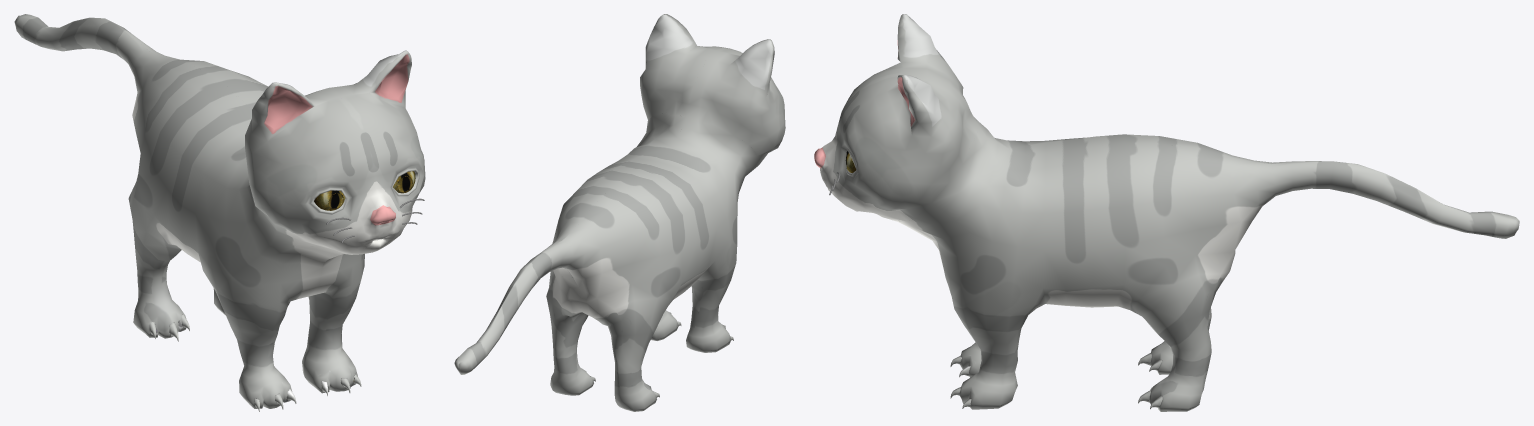
Rendered from walk_cat.obj.
3 views of the same model, side by side, from view 1: azimuth 30°, elevation 25°; view 2: azimuth 150°, elevation 25°; view 3: azimuth 270°, elevation 25° (orthographic). The views are drawn at different scales.
Parts seen in each view (by area): view 1: Cat; view 2: Cat; view 3: Cat.
Part boxes in pixels (x1,y1,x2,y2): Cat: (14,14,425,411); Cat: (454,14,785,411); Cat: (814,14,1519,411).
Bounding box in the file's own units: 0.9788 × 2.05 × 3.83.
